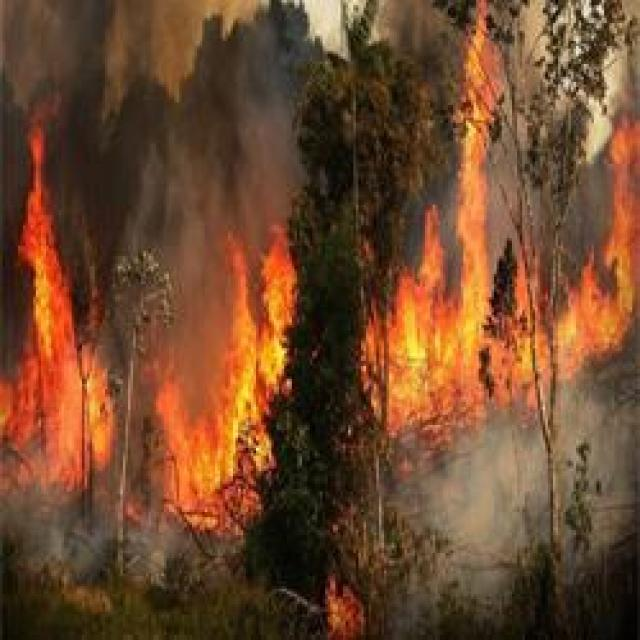fire: (369, 2, 498, 486), (0, 120, 114, 544), (503, 74, 640, 426), (159, 212, 295, 550)
